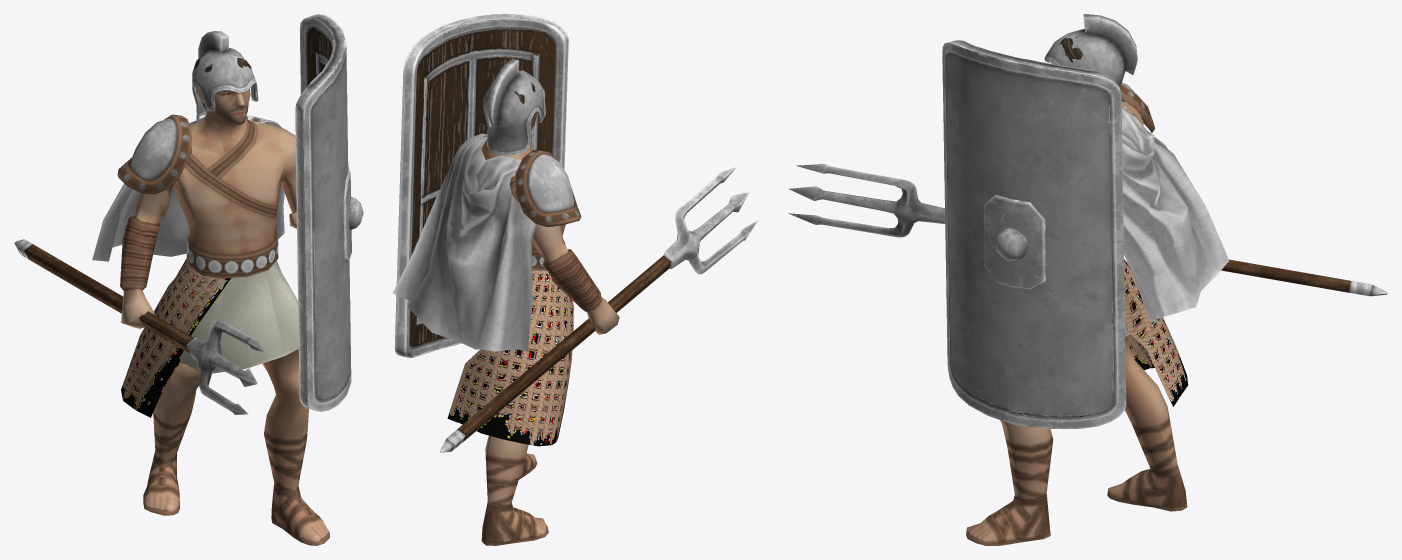
File: 239-destroyer.glb
The picture shows the model from 3 angles, left to right: view 1: azimuth 30°, elevation 25°; view 2: azimuth 150°, elevation 25°; view 3: azimuth 270°, elevation 25°; orthographic projection. The views are drawn at different scales.
Size of the model in its own units: 1.07 by 2.1 by 2.28.
4 materials, 4 textured.
